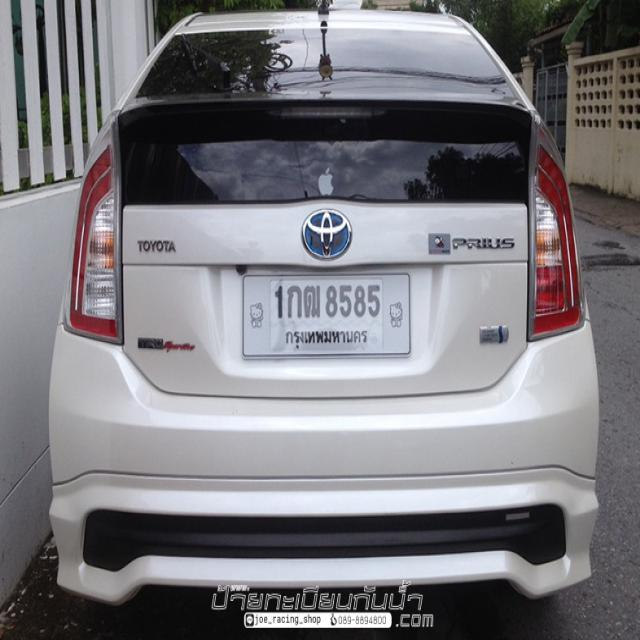license_plate: (243, 272, 411, 356)
